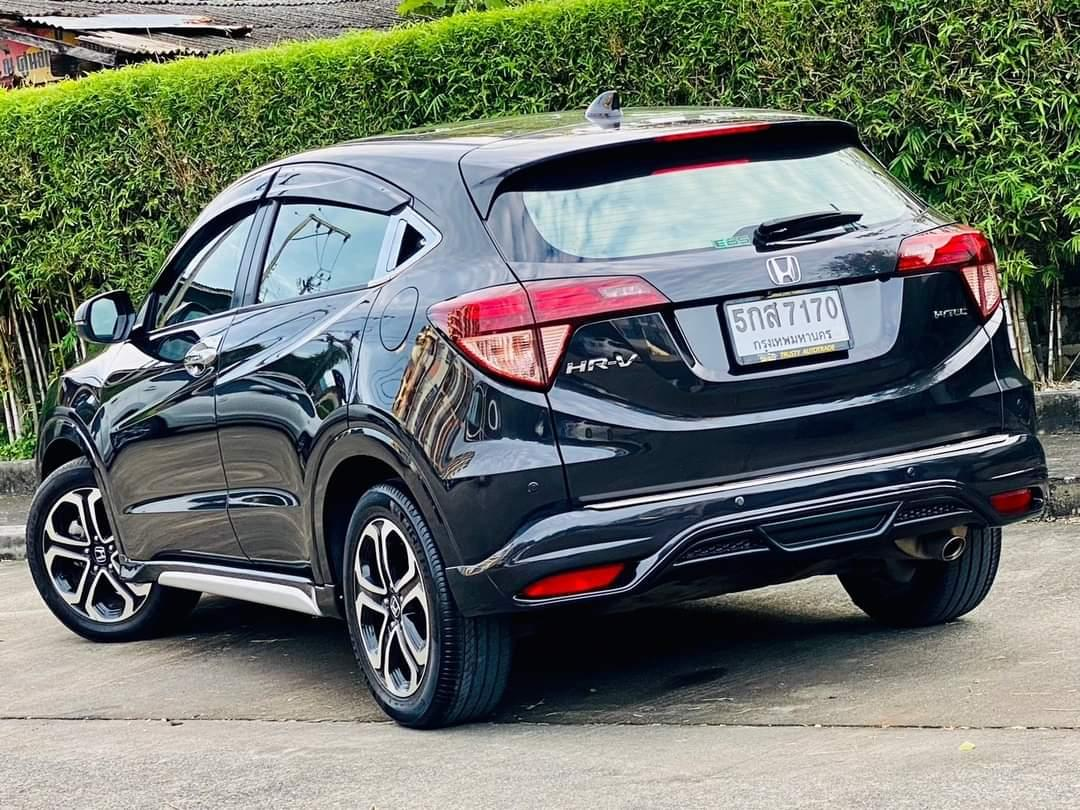license-plate: (716, 282, 859, 377)
